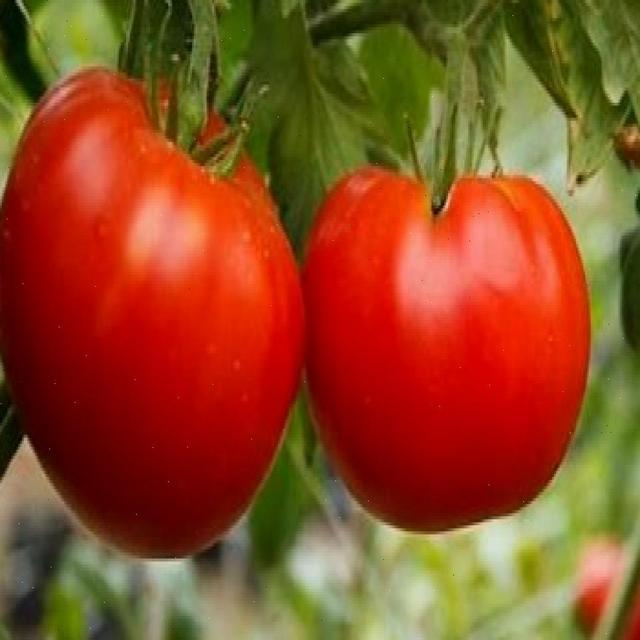Healthy Fruit: (105, 202, 302, 336)
